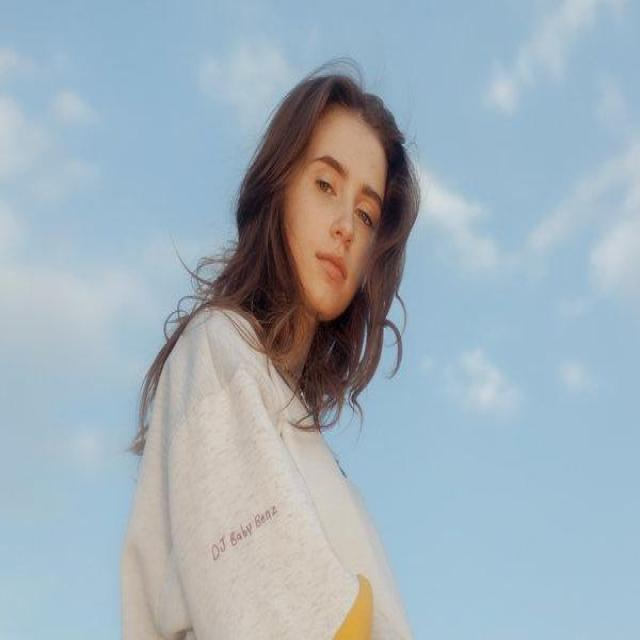mobile_phonerotation: (119, 57, 422, 638)
